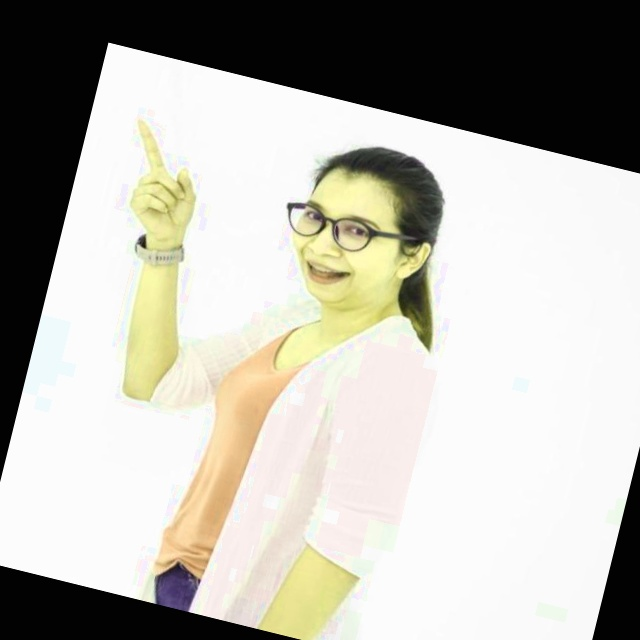Sin_Casco_Mascarrilla: (270, 126, 458, 327)
Sin_Chaleco: (143, 288, 445, 640)
